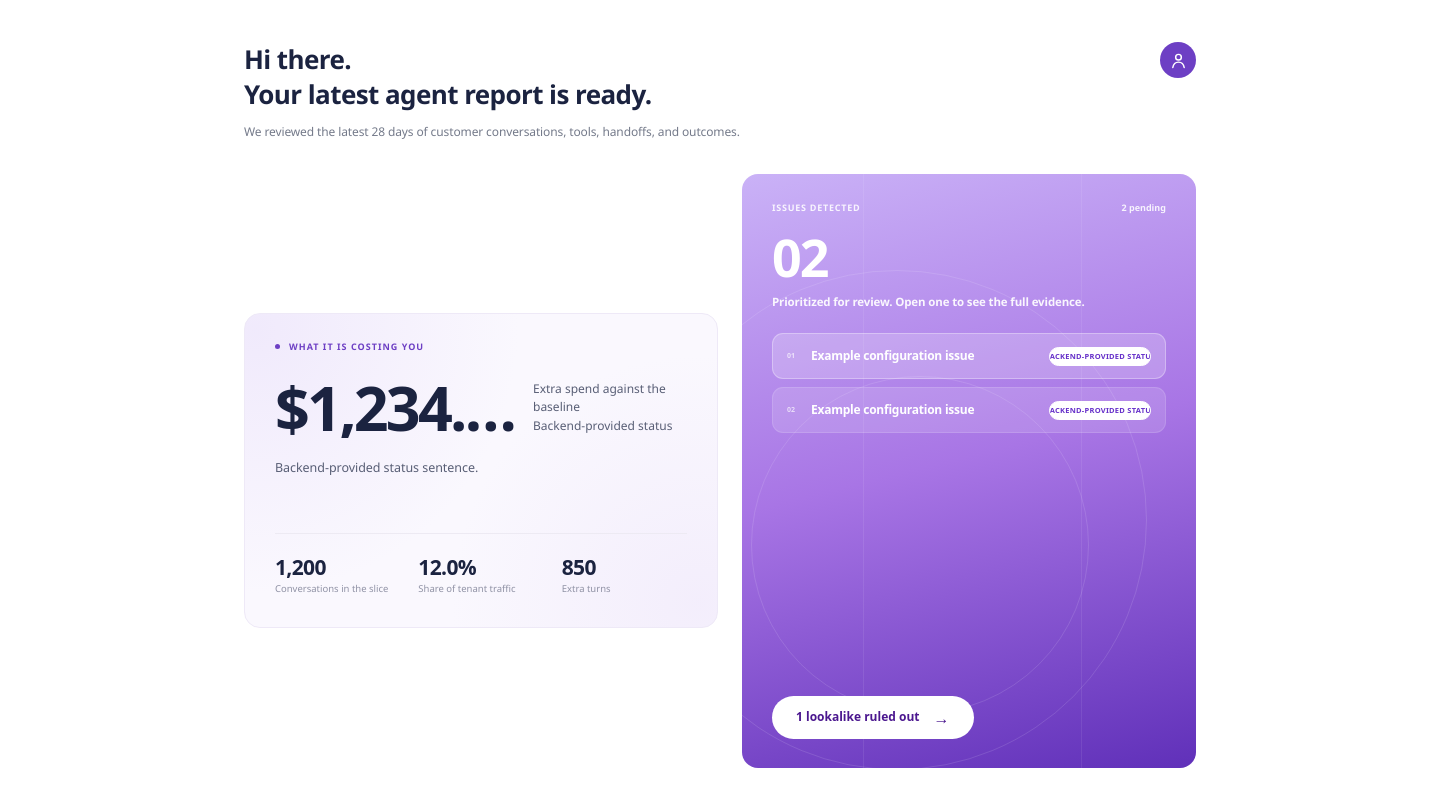
Test case: Nexus Loop overview › submits a hash-bound decision and replaces state from the backend response
Check: the button "$1,234.50" is shown, box 275,377 -> 520,438
Click the button with aria-label "Responses take too many turns": {"x": 969, "y": 356} 772,333 -> 1166,379
(page scrolled)
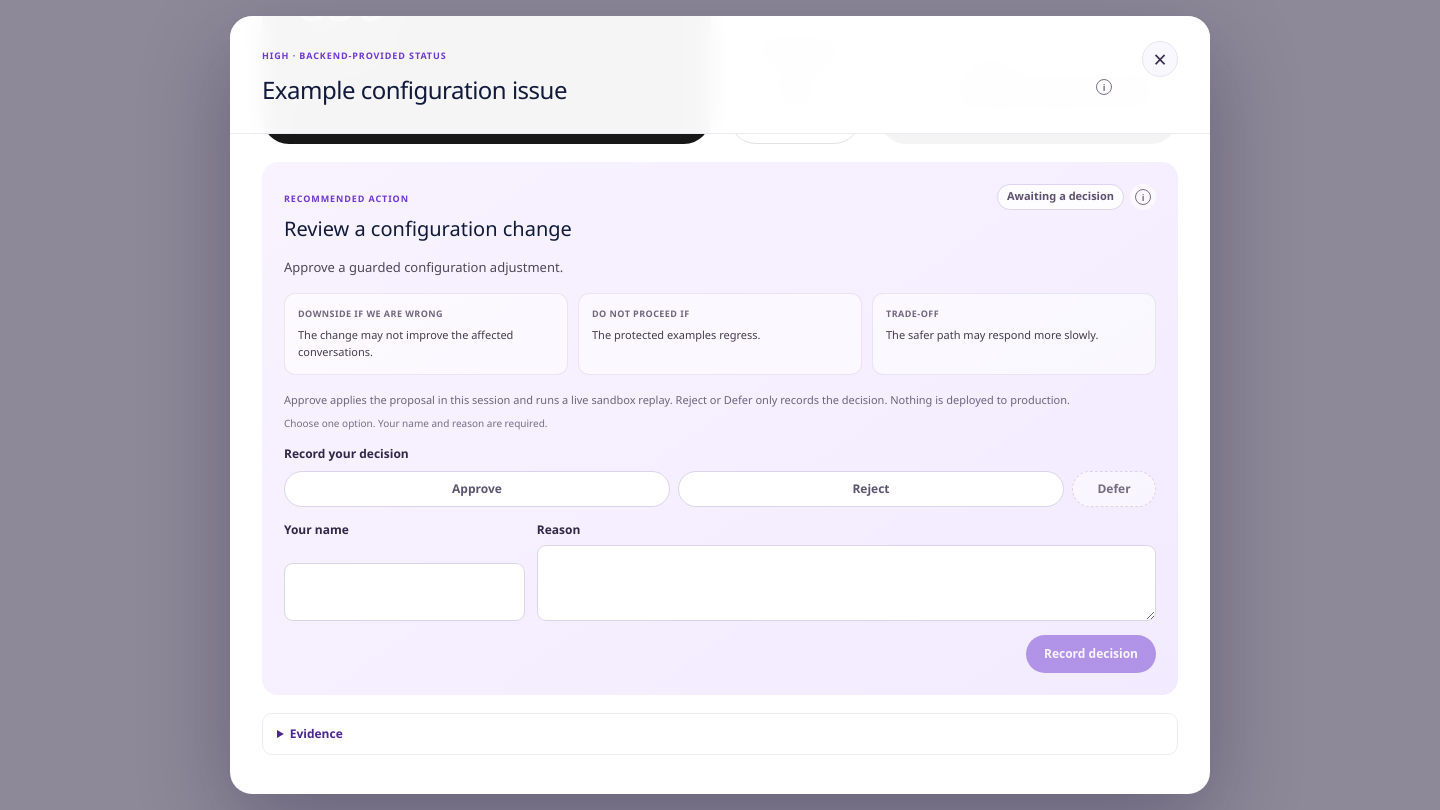
In the field labelled "Your name": {"x": 404, "y": 592} 284,564 -> 525,621, type "Demo manager"
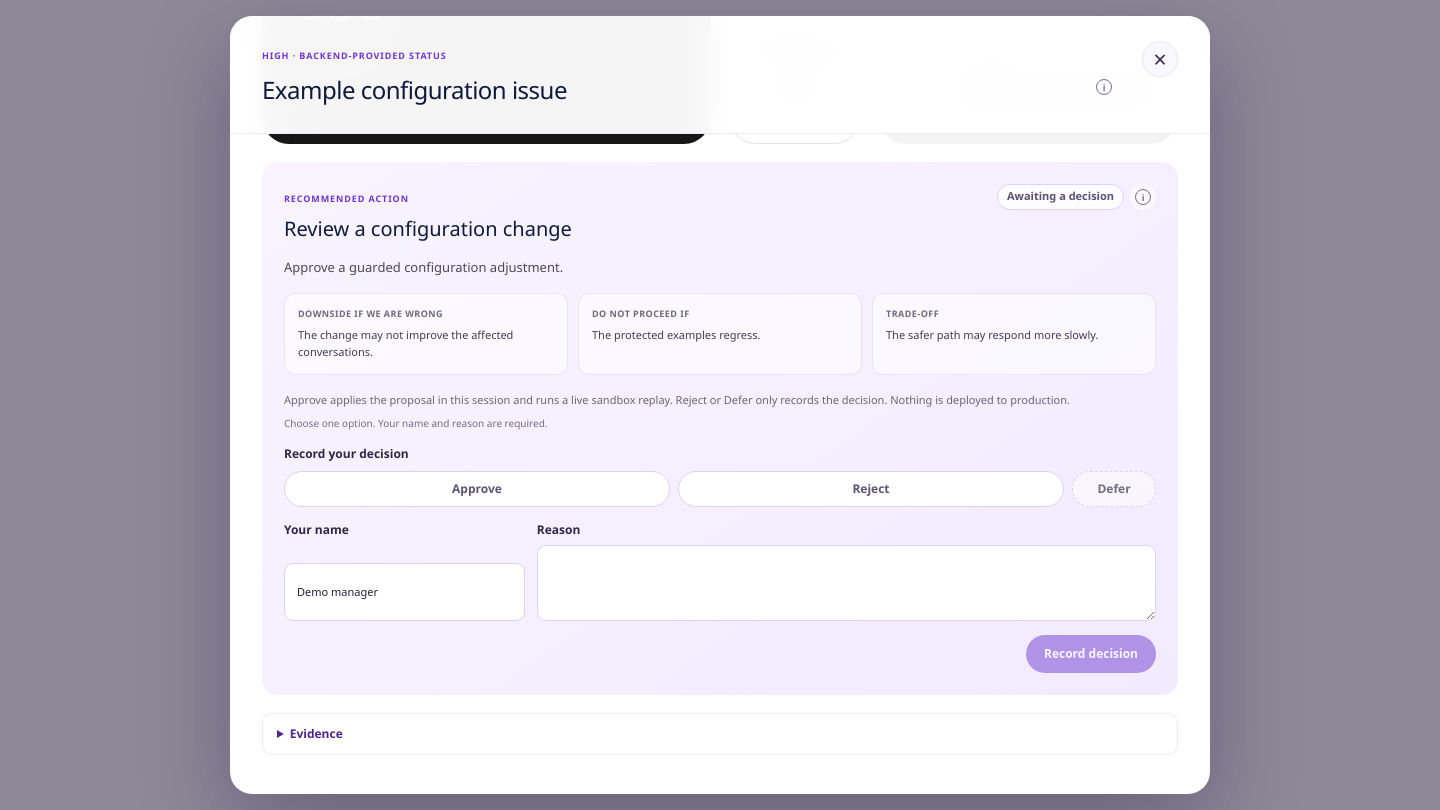
In the text box labelled "Reason": {"x": 846, "y": 583} 537,545 -> 1156,621, type "Evidence reviewed."
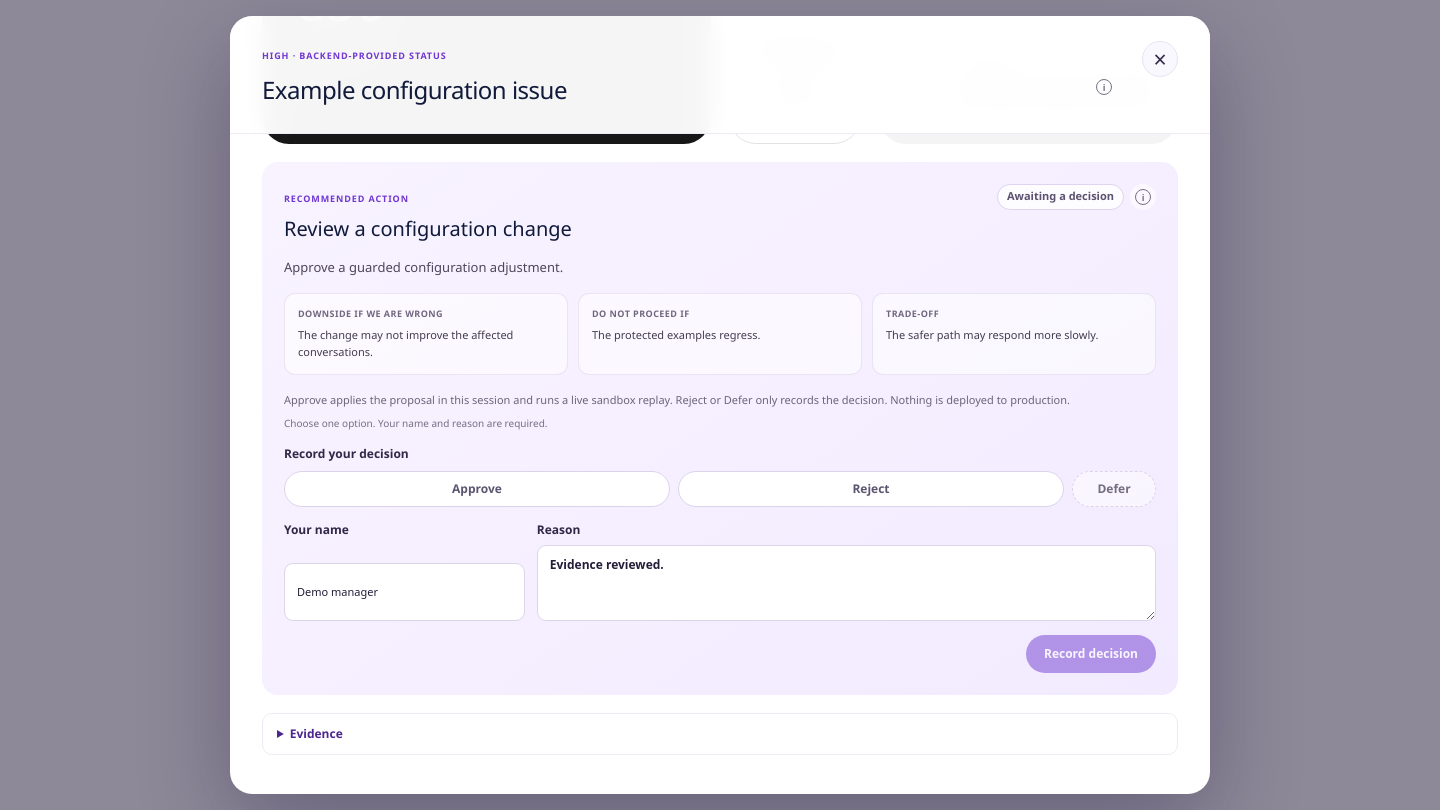
Click the radio button labelled "Approve": {"x": 477, "y": 489} 284,471 -> 670,507
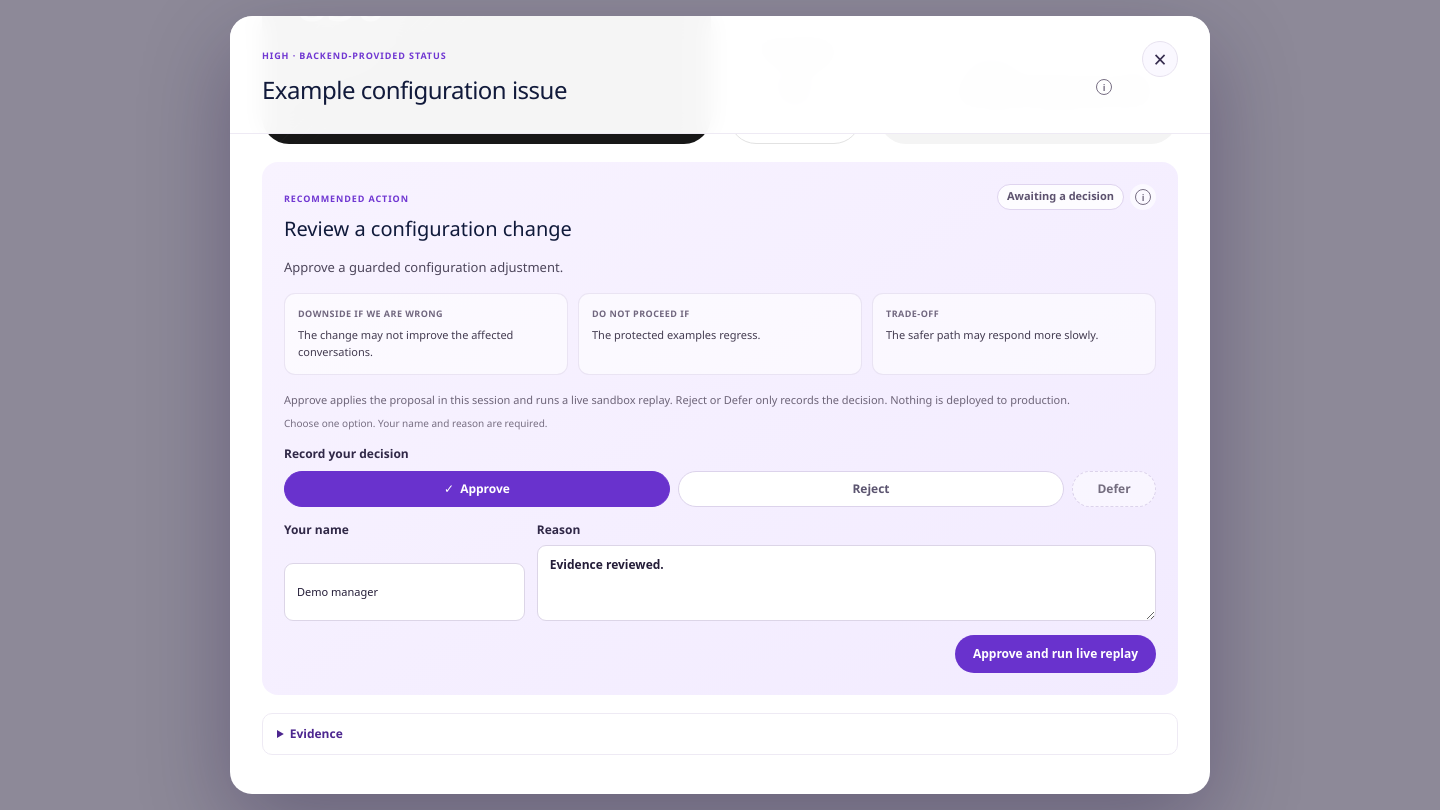
Click the button "Approve and run live replay": {"x": 1055, "y": 654} 955,635 -> 1156,673
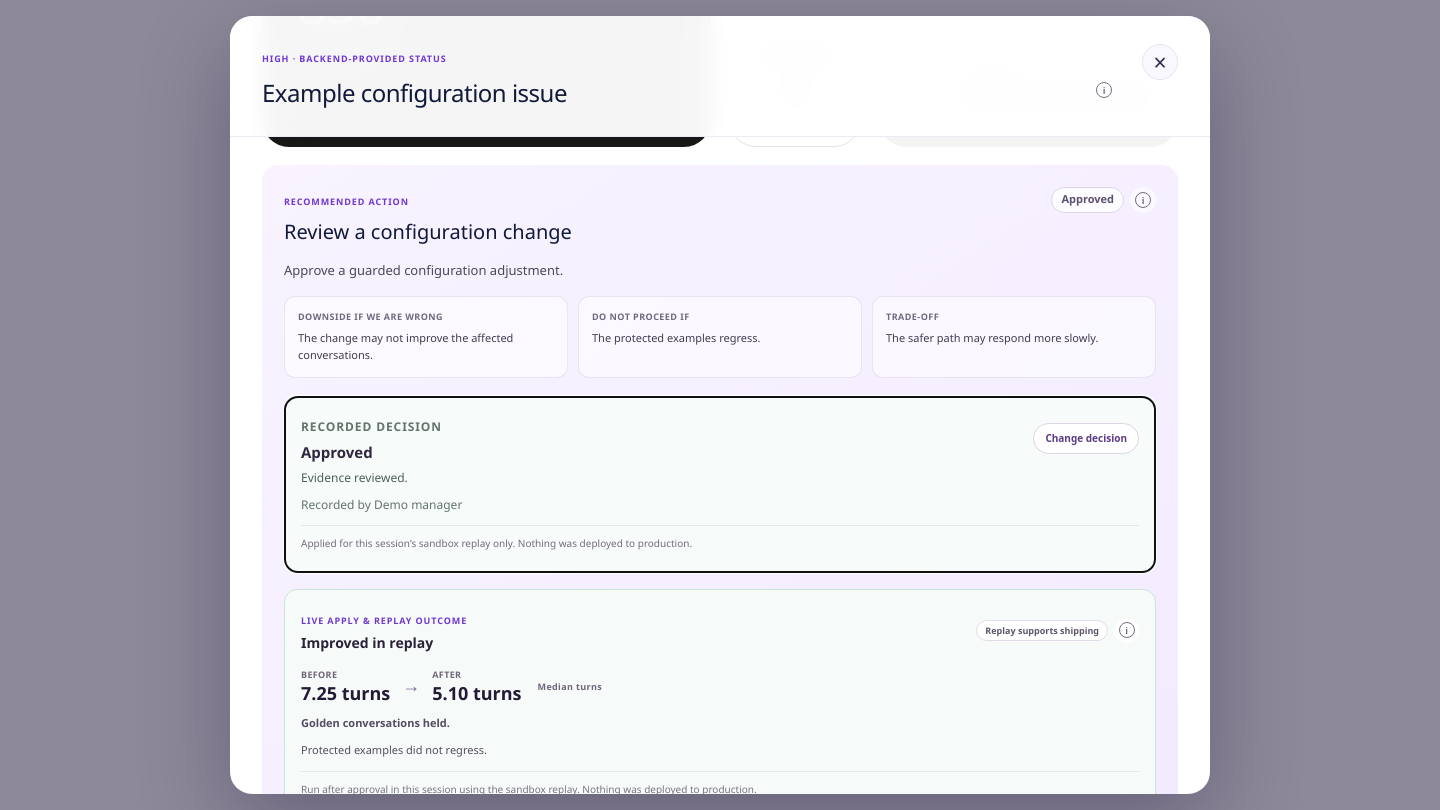
Check: the text "Approved" below "Recorded decision" is shown, box 301,443 -> 373,463
Check: the text "Applied for this session’s sandbox replay only" is shown, box 301,536 -> 692,550
Check: the text "5.10 turns" is shown, box 432,685 -> 522,704
